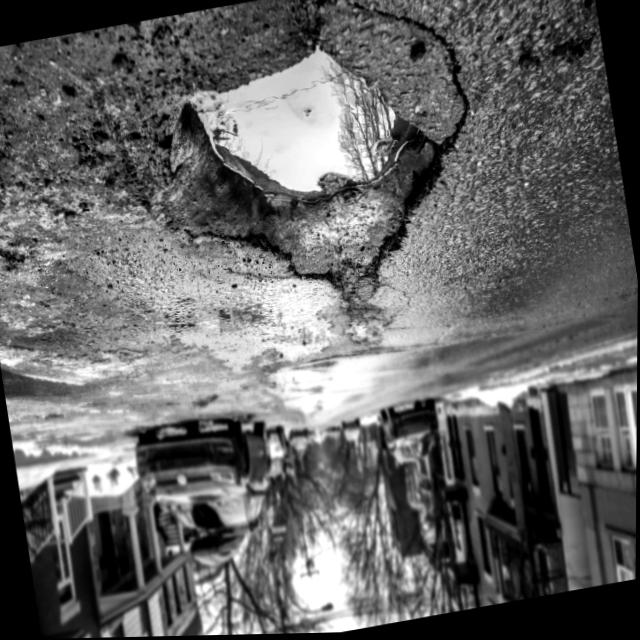pathole: (137, 0, 492, 365)
